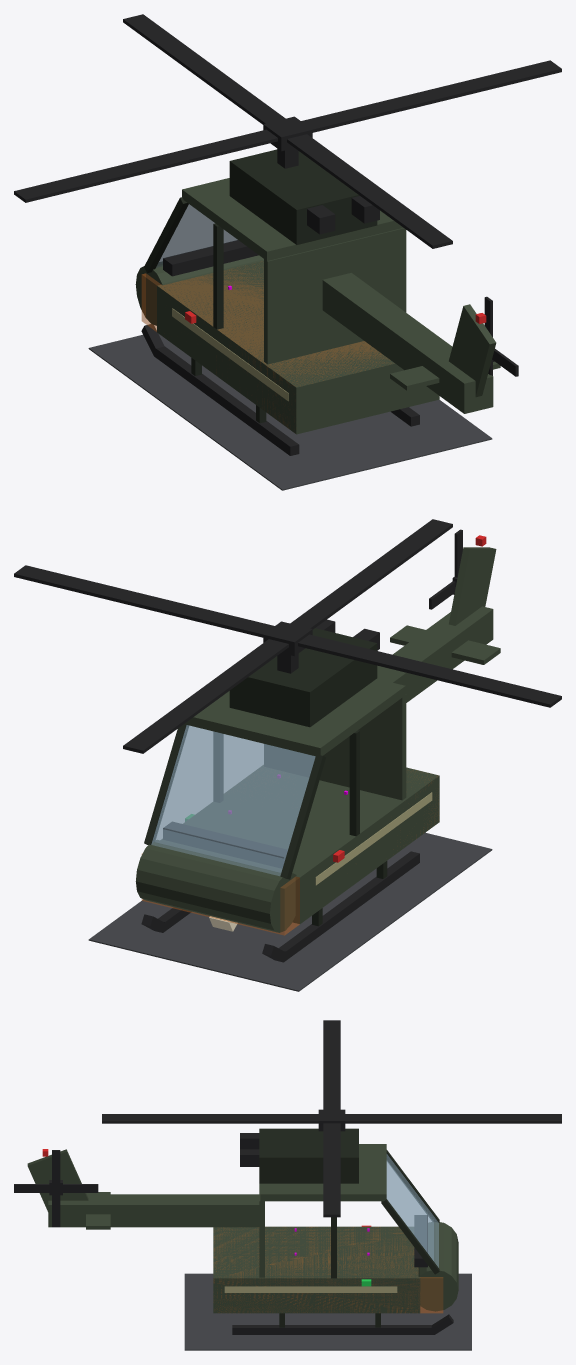
Rendered from Heli.obj.
3 views of the same model, one above another, from view 1: azimuth 30°, elevation 25°; view 2: azimuth 150°, elevation 25°; view 3: azimuth 270°, elevation 25° (orthographic). The views are drawn at different scales.
Parts seen in each view (by area): view 1: Ref_Body, Ref_Ground, Ref_RotorBlade, Ref_BackWall, Ref_TailBoom, Ref_Engine, Ref_Chassis, Ref_Roof, Ref_LandingSkid, Ref_TailFin, Ref_Nose, Ref_Windshield (+8 smaller); view 2: Ref_Ground, Ref_Windshield, Ref_Body, Ref_RotorBlade, Ref_Nose, Ref_Engine, Ref_Roof, Ref_BackWall, Ref_TailBoom, Ref_LandingSkid, Ref_WindowFrame, Ref_Dash (+8 smaller); view 3: Ref_Body, Ref_Ground, Ref_RotorBlade, Ref_TailBoom, Ref_Engine, Ref_Roof, Ref_Nose, Ref_Windshield, Ref_LandingSkid, Ref_Chassis, Ref_TailFin, Ref_WindowFrame (+7 smaller).
Boxes of the visible parts, x1,y1,x2,y2 form: Ref_Body: [157, 260, 439, 434]; Ref_Ground: [88, 333, 492, 490]; Ref_RotorBlade: [14, 14, 561, 248]; Ref_BackWall: [264, 228, 406, 364]; Ref_TailBoom: [322, 273, 493, 413]; Ref_Engine: [229, 149, 377, 244]; Ref_Chassis: [141, 269, 389, 425]; Ref_Roof: [182, 178, 403, 260]; Ref_LandingSkid: [156, 346, 419, 455]; Ref_TailFin: [449, 304, 496, 397]; Ref_Nose: [135, 255, 263, 325]; Ref_Windshield: [156, 204, 237, 267]; Ref_Ground: [88, 832, 492, 991]; Ref_Windshield: [151, 725, 315, 875]; Ref_Body: [161, 765, 439, 923]; Ref_RotorBlade: [14, 519, 561, 753]; Ref_Nose: [135, 840, 296, 932]; Ref_Engine: [229, 628, 377, 727]; Ref_Roof: [185, 679, 405, 756]; Ref_BackWall: [264, 695, 406, 800]; Ref_TailBoom: [377, 606, 493, 702]; Ref_LandingSkid: [158, 851, 419, 960]; Ref_WindowFrame: [144, 723, 325, 879]; Ref_Dash: [163, 822, 287, 868]; Ref_Body: [213, 1226, 420, 1313]; Ref_Ground: [184, 1273, 471, 1350]; Ref_RotorBlade: [102, 1020, 561, 1217]; Ref_TailBoom: [48, 1194, 259, 1227]; Ref_Engine: [259, 1128, 358, 1183]; Ref_Roof: [260, 1144, 386, 1201]; Ref_Nose: [418, 1222, 458, 1311]; Ref_Windshield: [386, 1154, 438, 1267]; Ref_LandingSkid: [232, 1325, 431, 1334]; Ref_Chassis: [214, 1227, 443, 1313]; Ref_TailFin: [27, 1149, 88, 1211]; Ref_WindowFrame: [381, 1150, 439, 1274].
Bounding box in the file's own units: 24 × 11.42 × 28.6.
